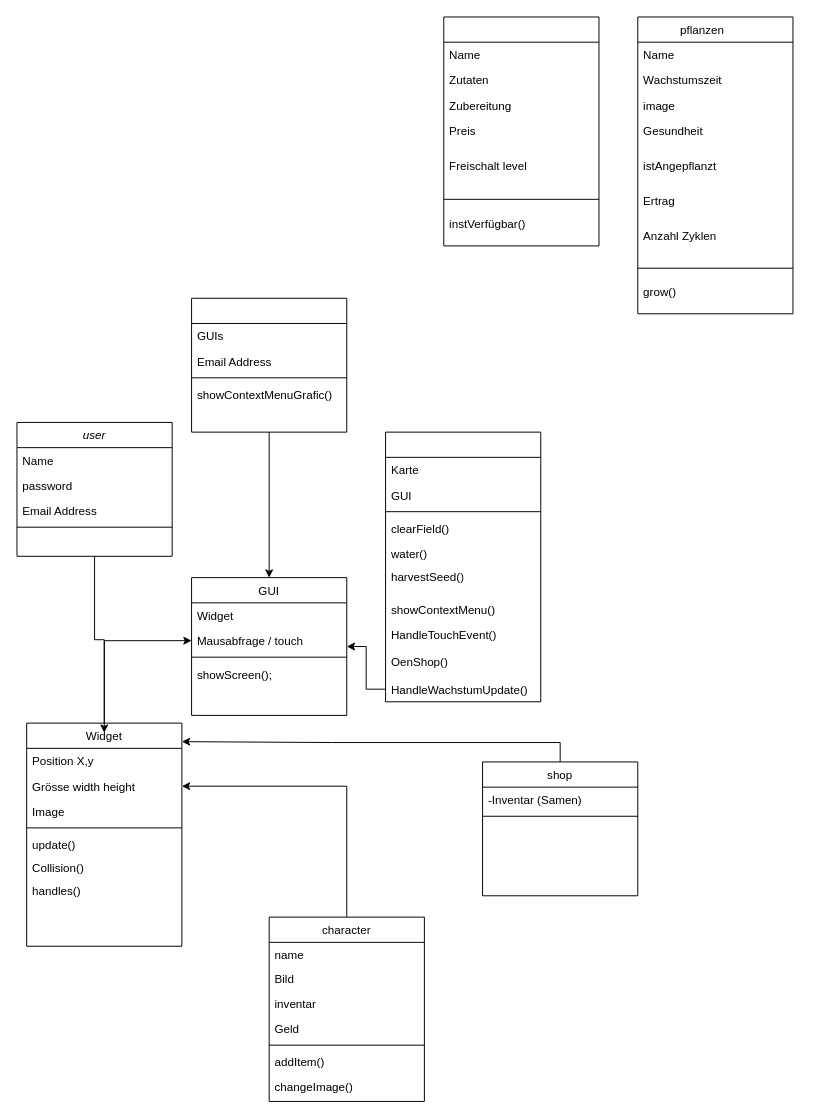
Image size: 829x1119. Some labels were removed from this diagram. Here are the shapes that lost their labels. From the top down, the box of each, then its label:
(443, 16, 599, 246): Rezept
(191, 297, 347, 432): Screen
(385, 431, 541, 702): Controller
